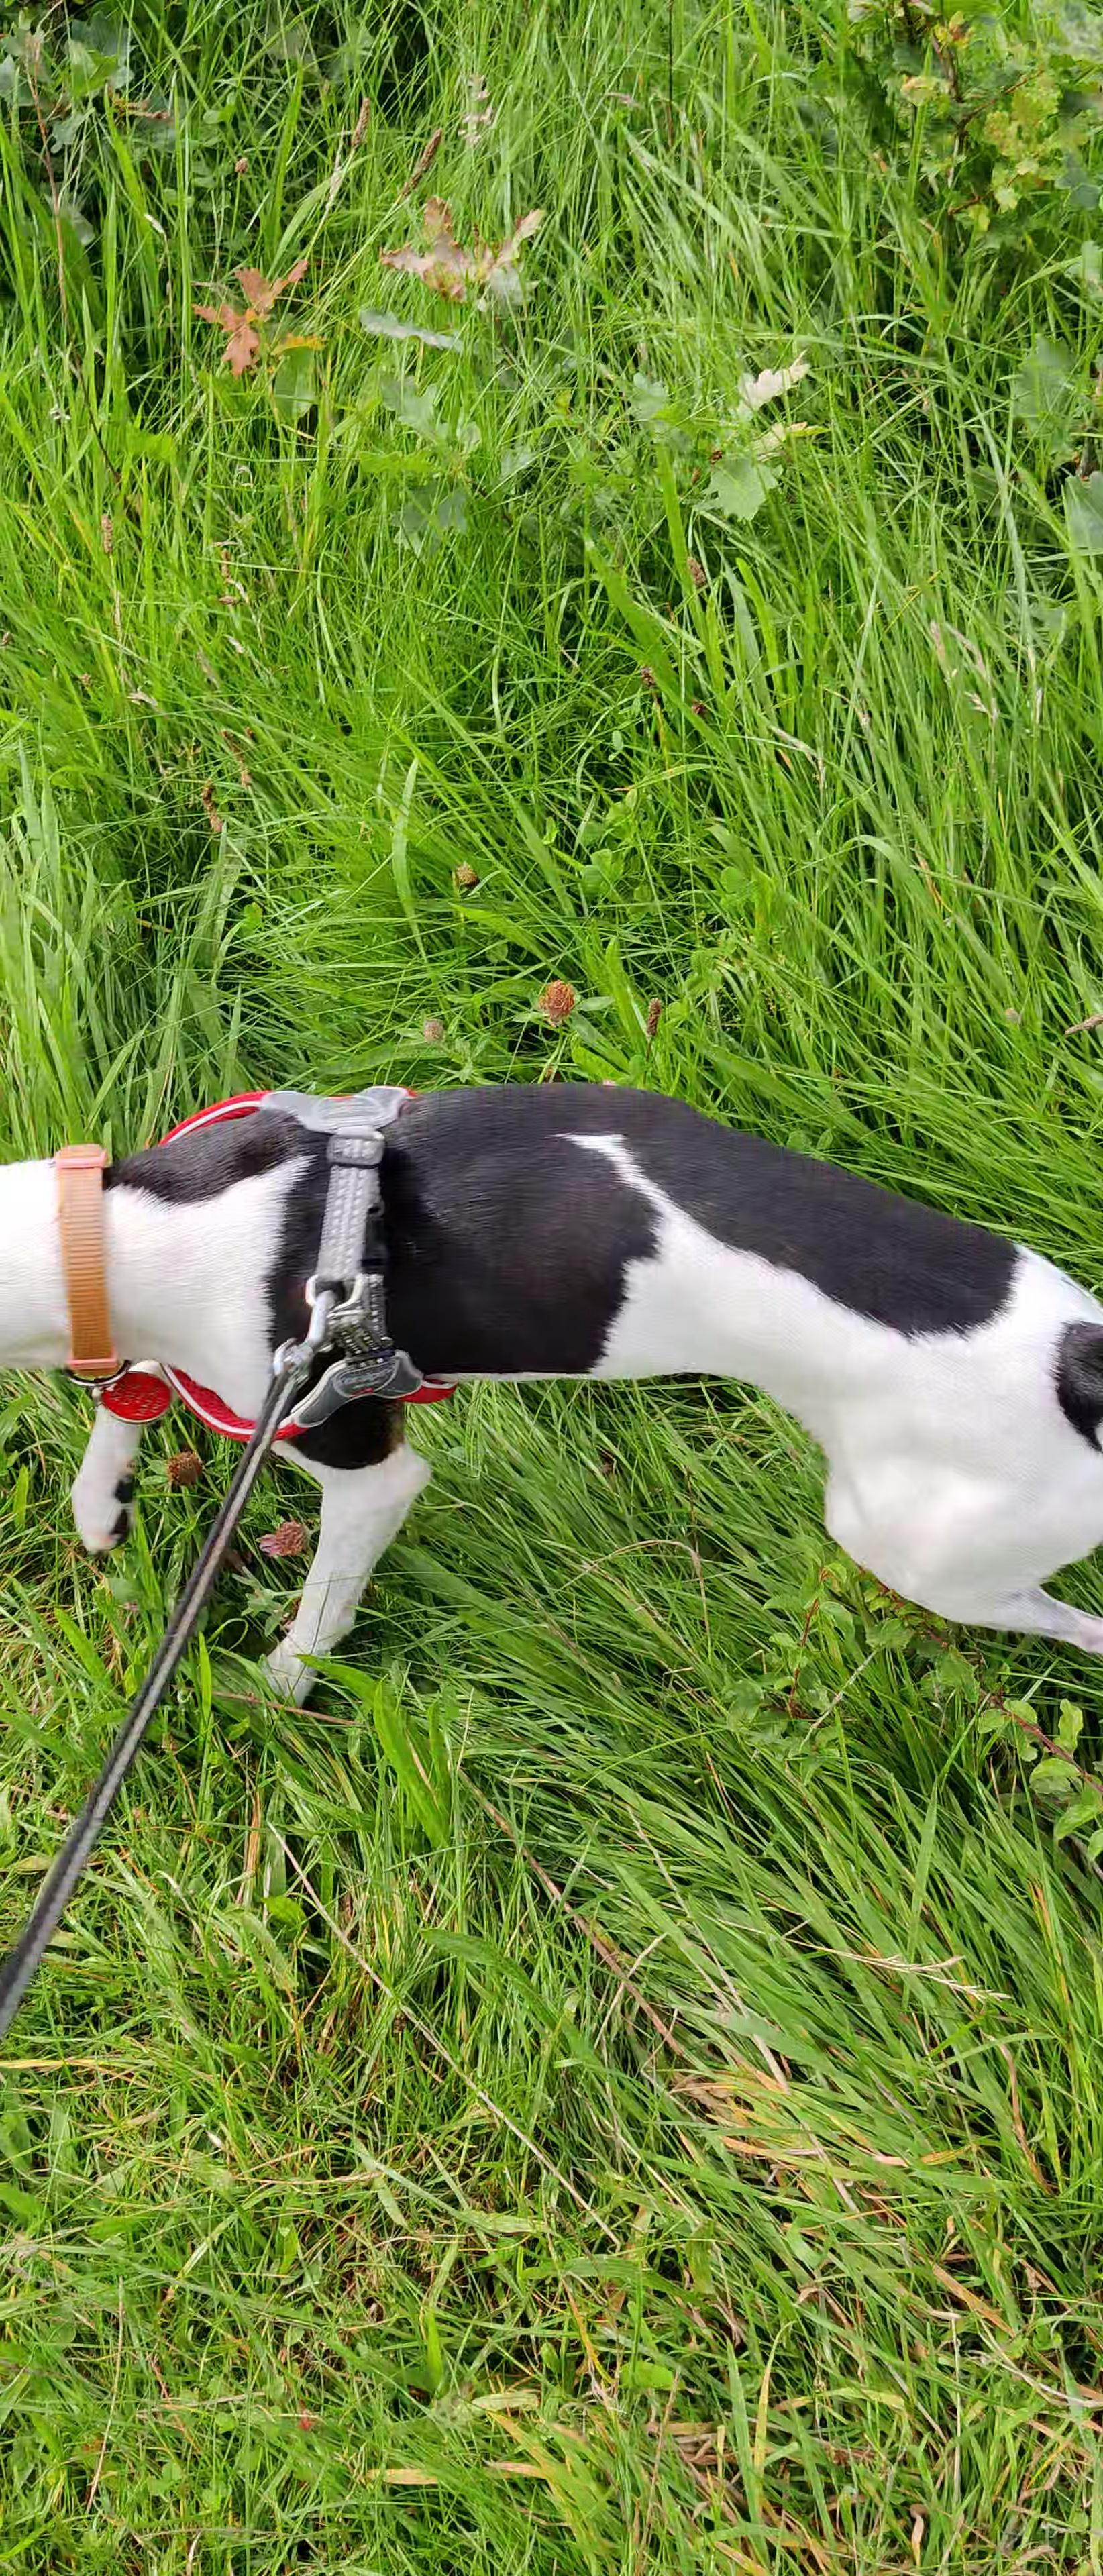Dog: (0, 1068, 1103, 1713)
